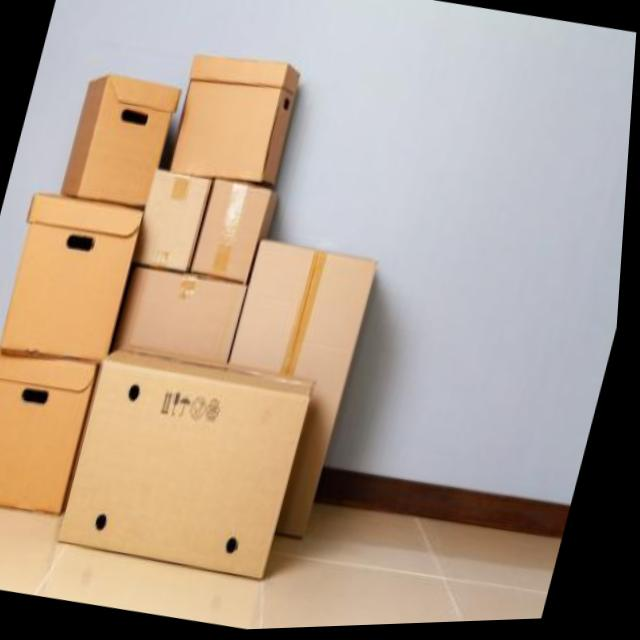box: (56, 343, 329, 596), (197, 232, 389, 544), (0, 179, 155, 363), (0, 335, 108, 544), (166, 43, 310, 191), (114, 264, 256, 385), (61, 65, 183, 204), (191, 182, 278, 293), (136, 170, 215, 275)
